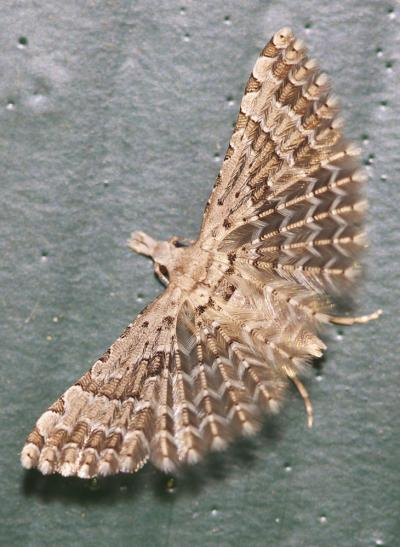Alucitidae: (18, 19, 386, 495)
moth: (16, 17, 384, 493)
